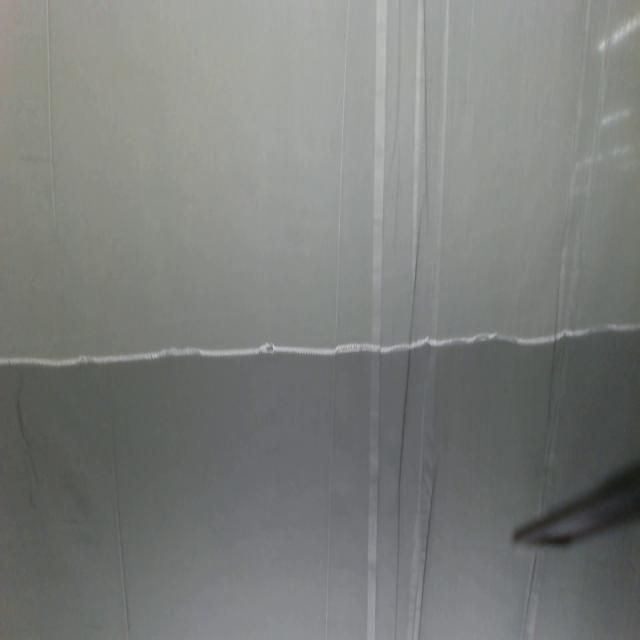crease: (392, 0, 452, 634), (539, 0, 614, 474), (334, 0, 352, 343), (372, 0, 389, 342), (41, 0, 61, 245), (323, 356, 338, 638), (112, 471, 132, 640), (368, 353, 378, 636), (522, 552, 544, 639)
